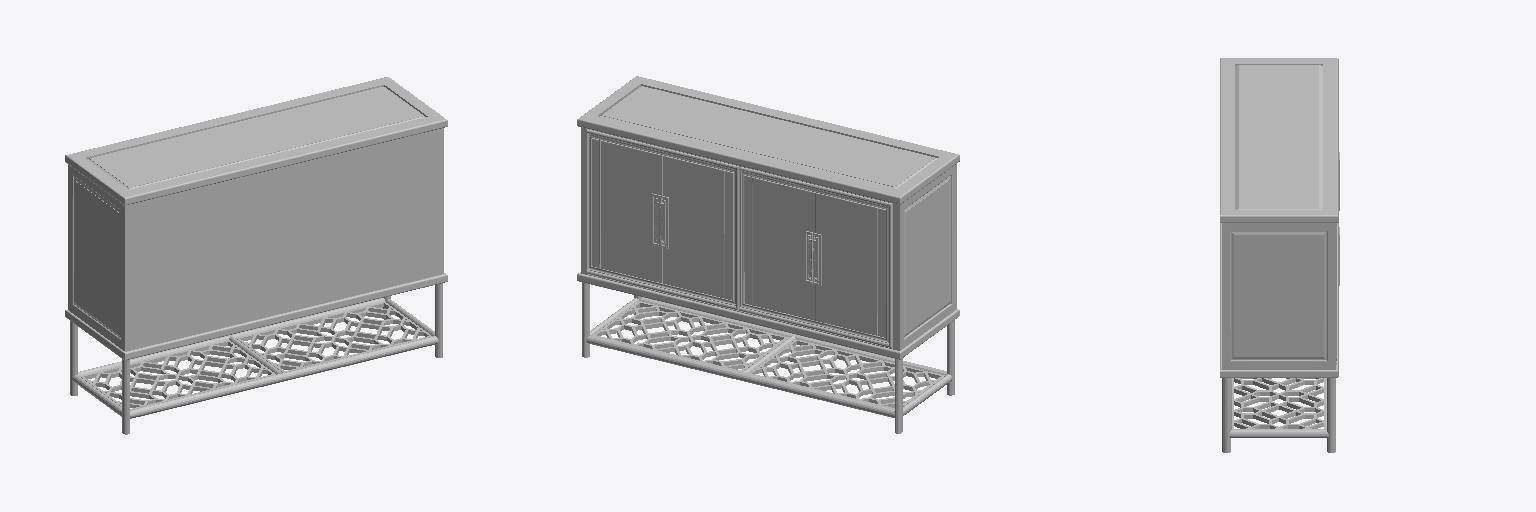
File: 17_cfa158a1-24a3-4f00-a999-ef7c64aa4f44.obj
The picture shows the model from 3 angles: view 1: azimuth 30°, elevation 25°; view 2: azimuth 150°, elevation 25°; view 3: azimuth 270°, elevation 25°; orthographic projection.
Bounding box in the file's own units: 1.2 × 0.8453 × 0.3887.